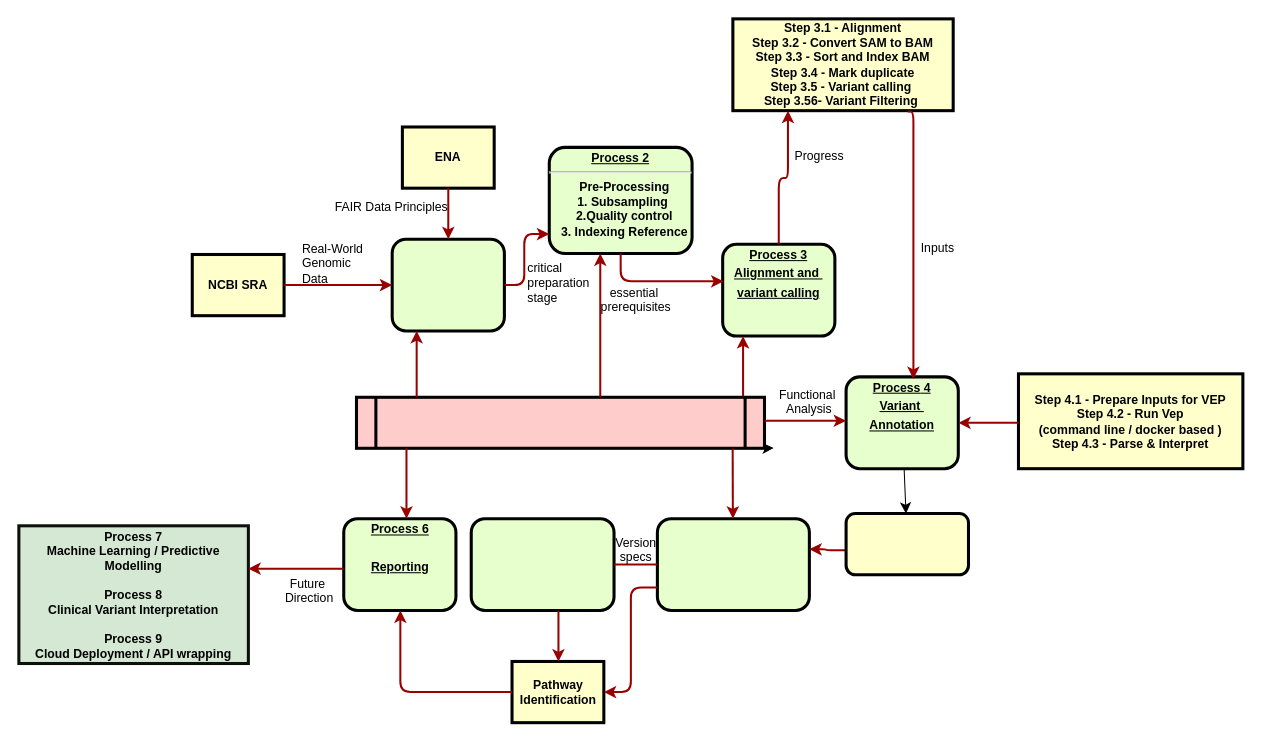
The diagram is 1262 pixels wide and 742 high, and some of its shapes have lost their labels. The centre of each missing label's shape, as x and y in pixels:
"Annotated Variant File" belongs at point (907, 544).
"DISEASE VARIANT ANNOTAION" belongs at point (560, 422).
"Extract Genes Perform Functional Enrichment Visualize (IGV)" belongs at point (542, 564).
"Process 1 DATA COLLECTION" belongs at point (447, 284).
"Process 5 Functional Enrichment & Biological Interpretation" belongs at point (732, 564).
